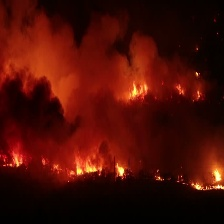fire: (154, 168, 224, 191), (41, 154, 102, 178), (3, 150, 26, 168), (126, 82, 150, 98), (115, 162, 131, 180), (173, 83, 186, 96)
smoke: (1, 13, 224, 177)
